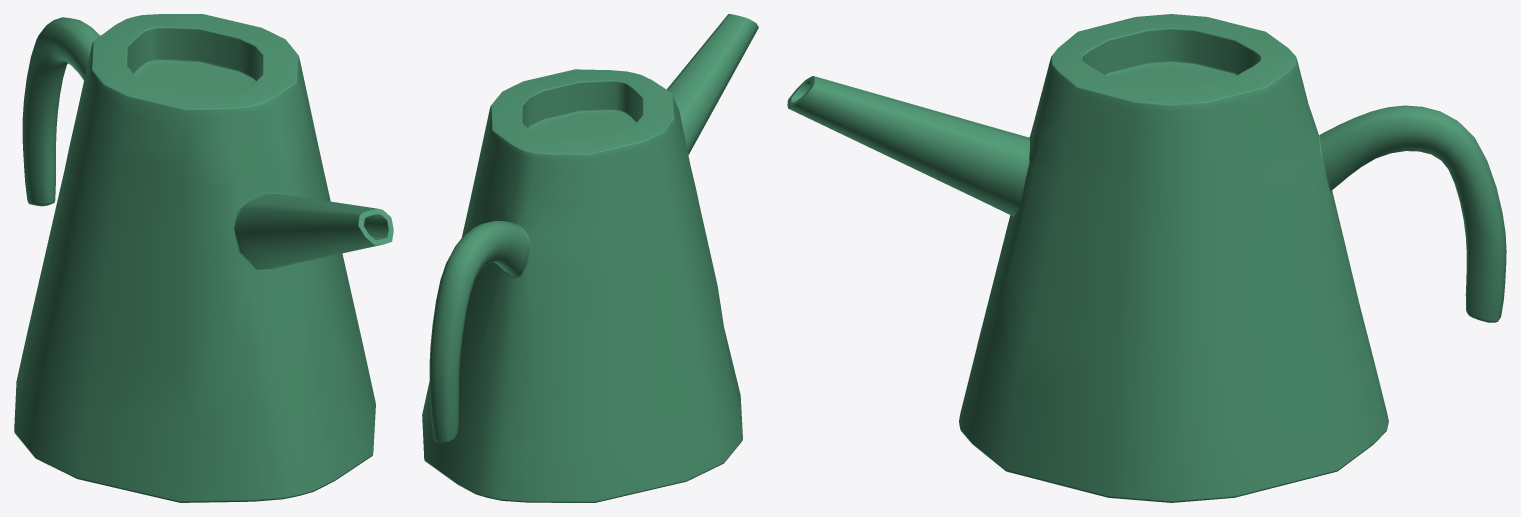
The model's file is watercan.gltf.
3 views of the same model, side by side, from view 1: azimuth 30°, elevation 25°; view 2: azimuth 150°, elevation 25°; view 3: azimuth 270°, elevation 25° (orthographic). The views are drawn at different scales.
Visible parts, largest first — view 1: watercan; view 2: watercan; view 3: watercan.
Boxes of the visible parts, left/top/right/bottom form: watercan: left=14, top=14, right=393, bottom=502; watercan: left=422, top=14, right=758, bottom=502; watercan: left=787, top=14, right=1506, bottom=502.
Bounding box in the file's own units: 1.69 × 1.82 × 3.24.
